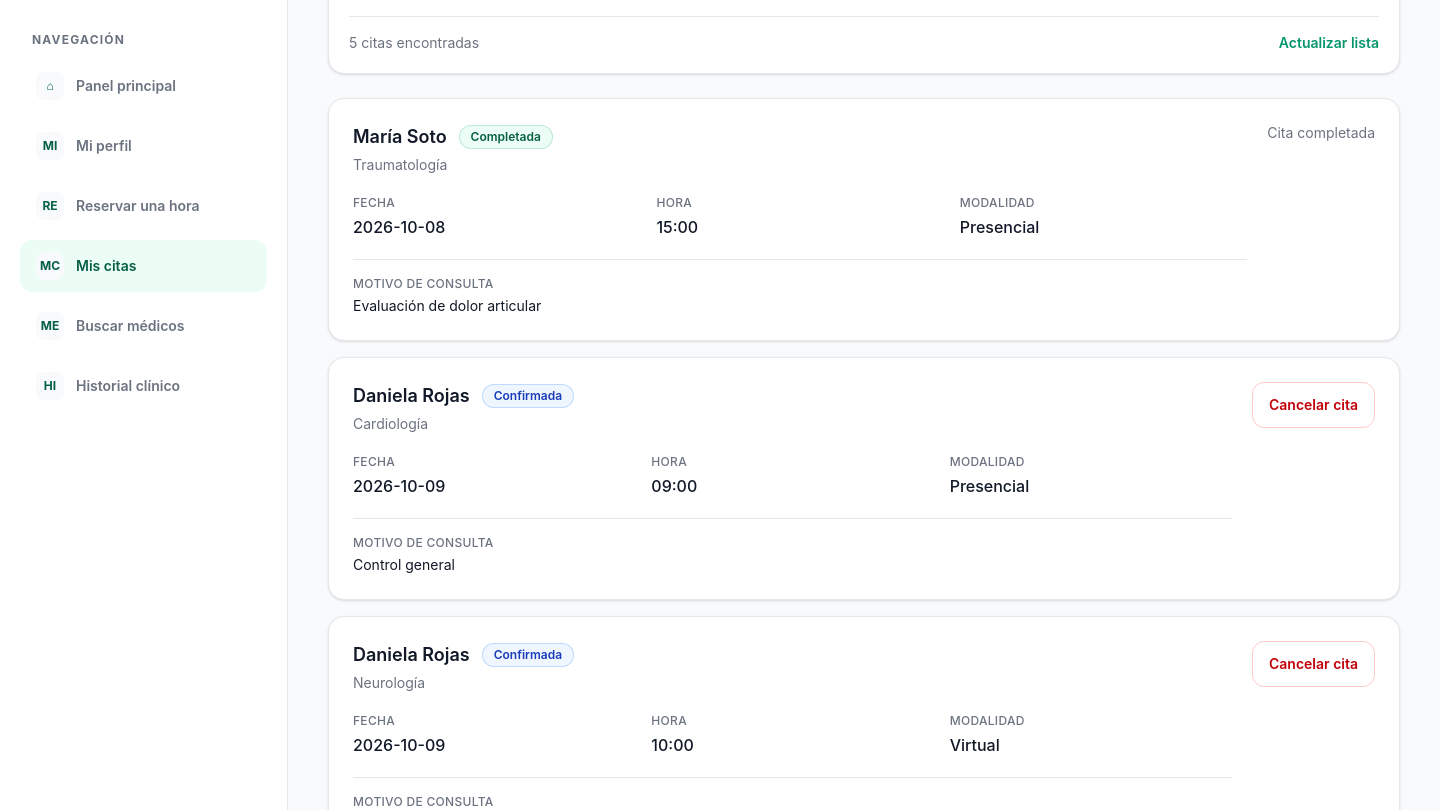
Requisitos de citas en las pantallas por rol › CP-071 · RF-18 · permite al paciente cancelar una cita confirmada
(page scrolled)
Click the button "Cancelar cita" in the row of "Cardiología".
click(1314, 405)  # box [1252,382,1375,428]
(page scrolled)
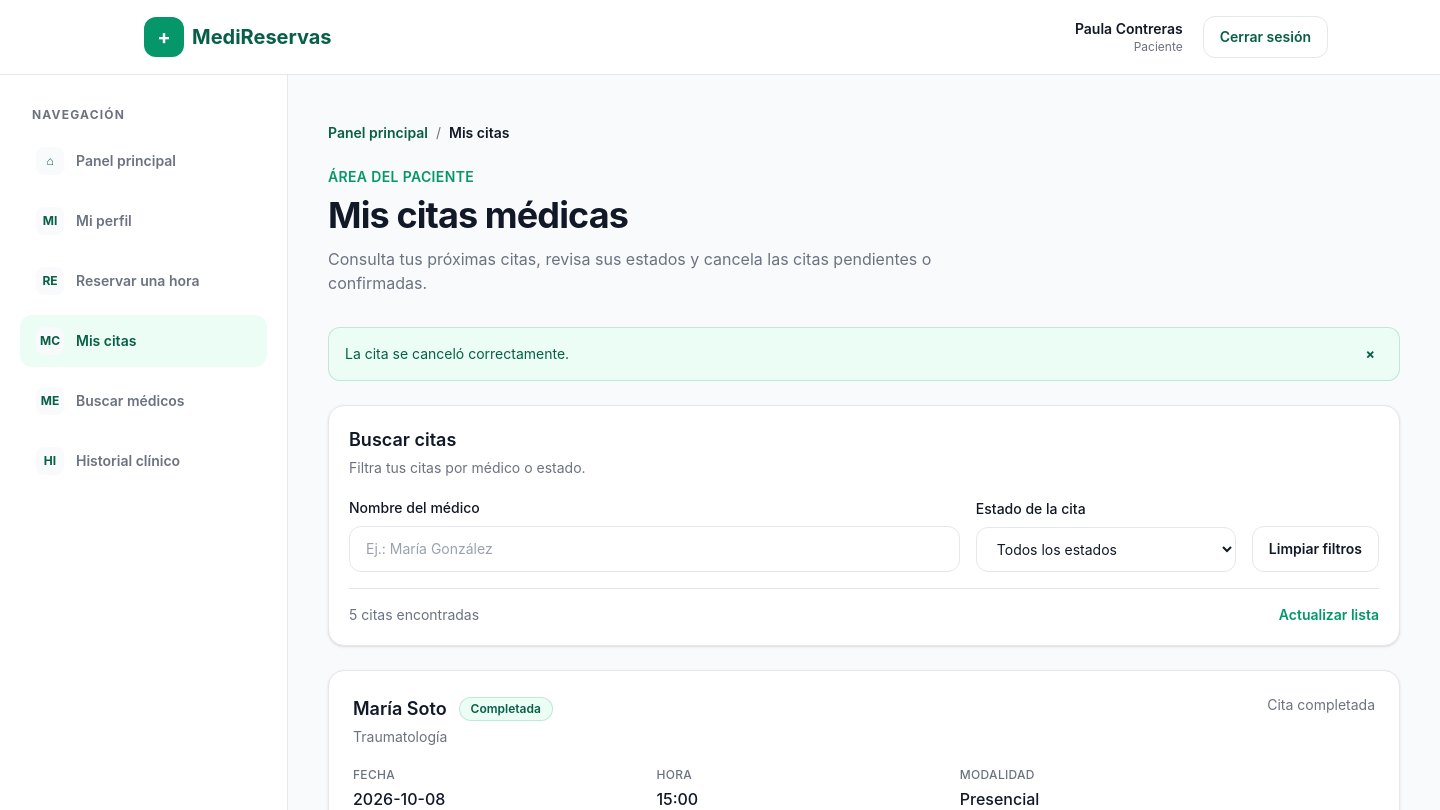
Click the button named "Cerrar mensaje".
click(1370, 354)  # box [1358,344,1383,364]
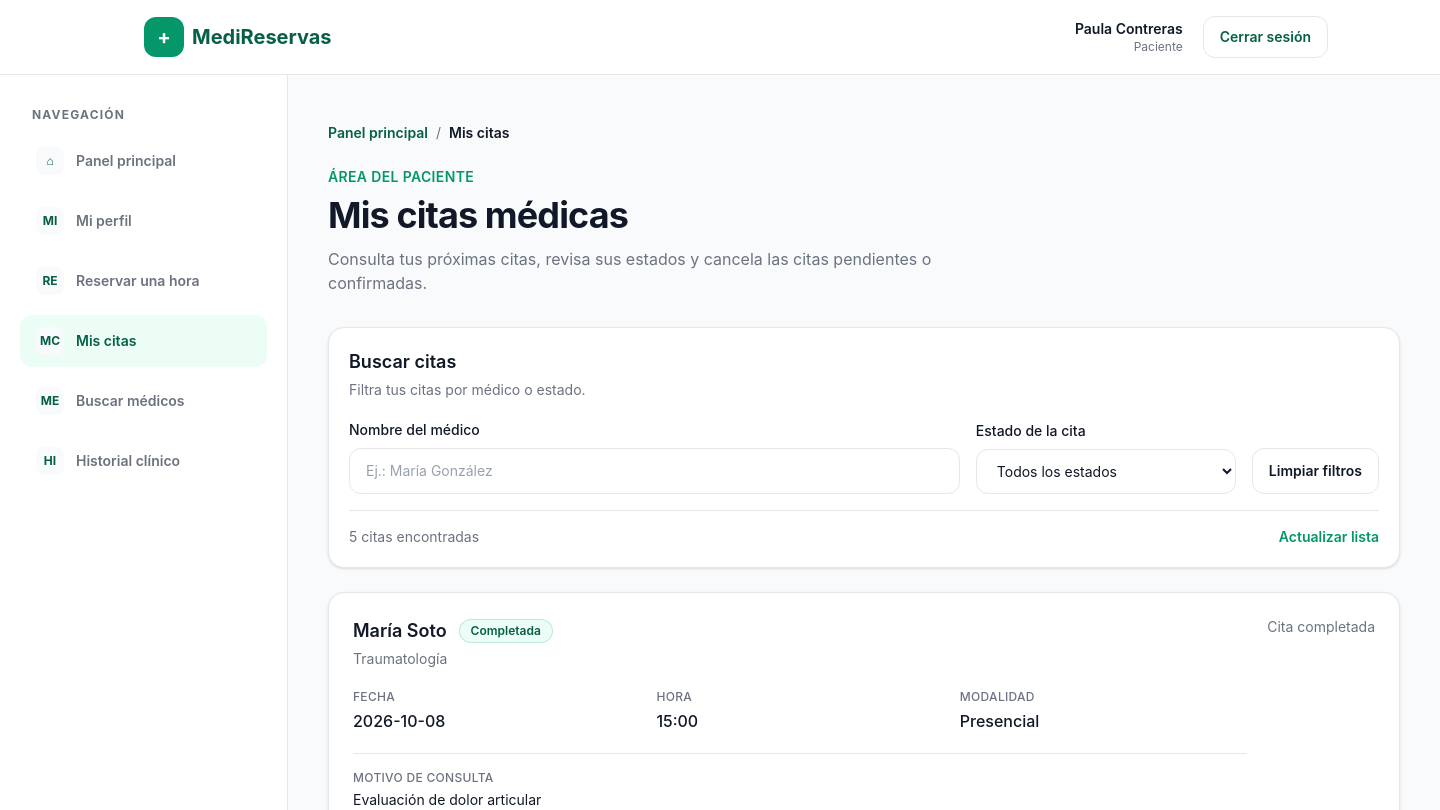
Expected: the text "La cita se canceló correctamente." is gone
